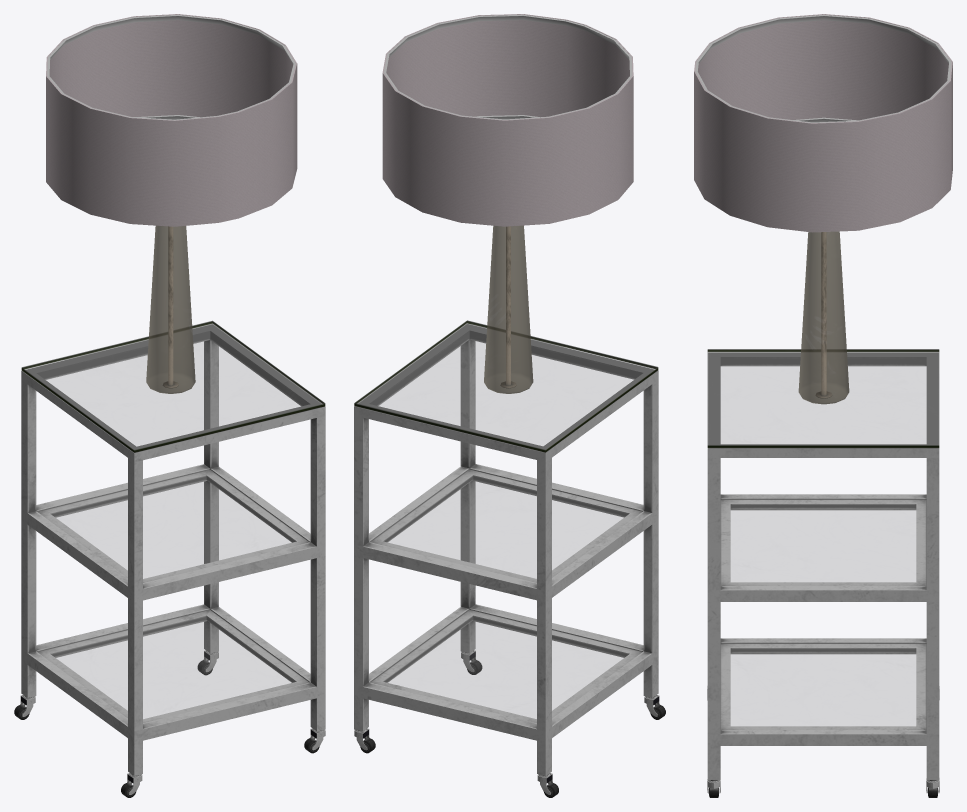
File: lamp.glb
3 renders of one model, left to right at view 1: azimuth 30°, elevation 25°; view 2: azimuth 150°, elevation 25°; view 3: azimuth 270°, elevation 25°, orthographic. The views are drawn at different scales.
Parts seen in each view (by area): view 1: glasses_low, light6_low, body_low, body1_low, light5_low, light_low, metal_low; view 2: glasses_low, light6_low, body_low, body1_low, light5_low, light_low, metal_low; view 3: glasses_low, light6_low, body_low, body1_low, light5_low, light_low, metal_low.
Part boxes in pixels (bbox=[...]): glasses_low: bbox=[21, 320, 325, 721]; light6_low: bbox=[46, 14, 297, 226]; body_low: bbox=[21, 324, 325, 775]; body1_low: bbox=[37, 469, 309, 722]; light5_low: bbox=[146, 225, 195, 393]; light_low: bbox=[47, 14, 295, 120]; metal_low: bbox=[163, 226, 178, 388]; glasses_low: bbox=[354, 320, 658, 721]; light6_low: bbox=[382, 14, 633, 226]; body_low: bbox=[354, 324, 658, 775]; body1_low: bbox=[370, 469, 642, 722]; light5_low: bbox=[484, 225, 533, 393]; light_low: bbox=[384, 14, 632, 119]; metal_low: bbox=[500, 226, 516, 388]; glasses_low: bbox=[707, 349, 939, 729]; light6_low: bbox=[694, 14, 952, 232]; body_low: bbox=[707, 352, 939, 779]; body1_low: bbox=[720, 499, 926, 729]; light5_low: bbox=[798, 231, 849, 404]; light_low: bbox=[695, 14, 951, 122]; metal_low: bbox=[816, 232, 831, 398].
Size of the model in its own units: 0.6876 by 2 by 0.6856.
2 materials, 2 textured.
